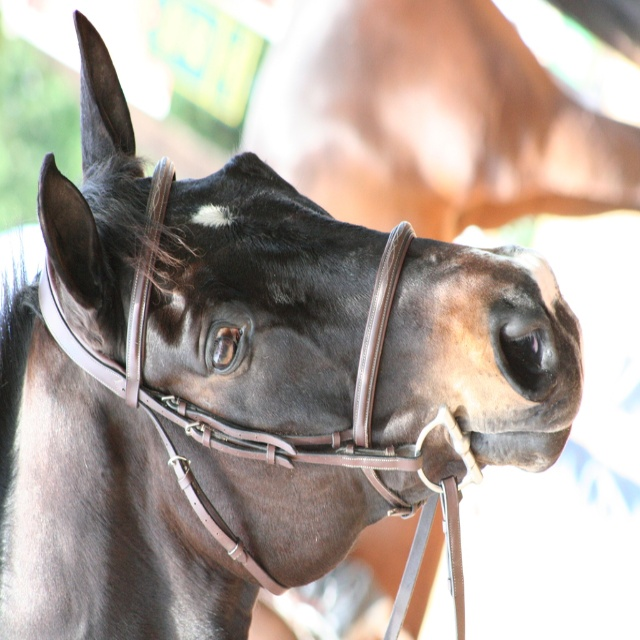Horse: (0, 13, 586, 639)
